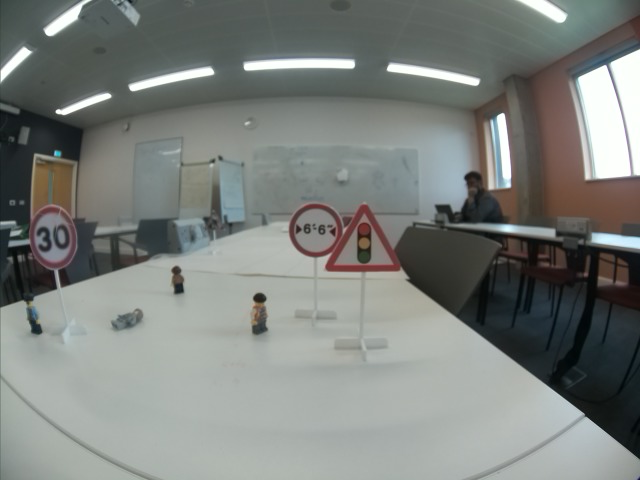30mph: (27, 205, 79, 270)
6ft6: (288, 202, 342, 257)
Lego Man: (248, 292, 274, 334), (109, 307, 147, 330), (24, 295, 43, 335), (171, 264, 186, 296)
Traffic lights: (323, 202, 400, 272)
